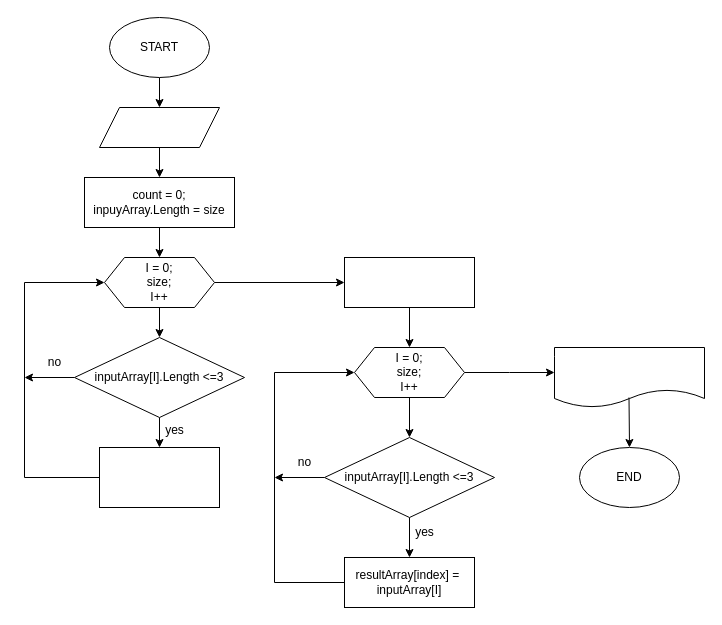
This 722x625 diagram has some shape labels left out. Here are the shapes that lost their labels. From the top down, the centre of each, then its label:
At point (159, 127): "inputArray = []".
At point (409, 282): "resultArray = [count] index = 0".
At point (629, 377): "inputArray -> resultArray".
At point (159, 477): "count++".
